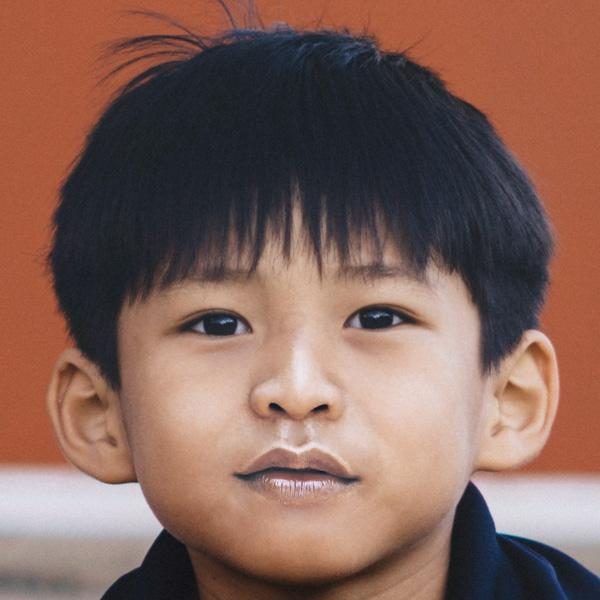Eyes: (332, 289, 433, 353), (164, 297, 264, 351)
